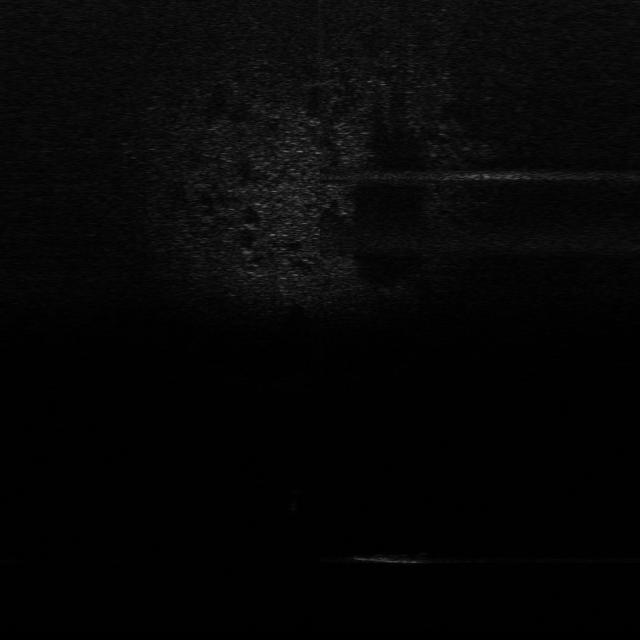metal bucket: (352, 546, 433, 569)
